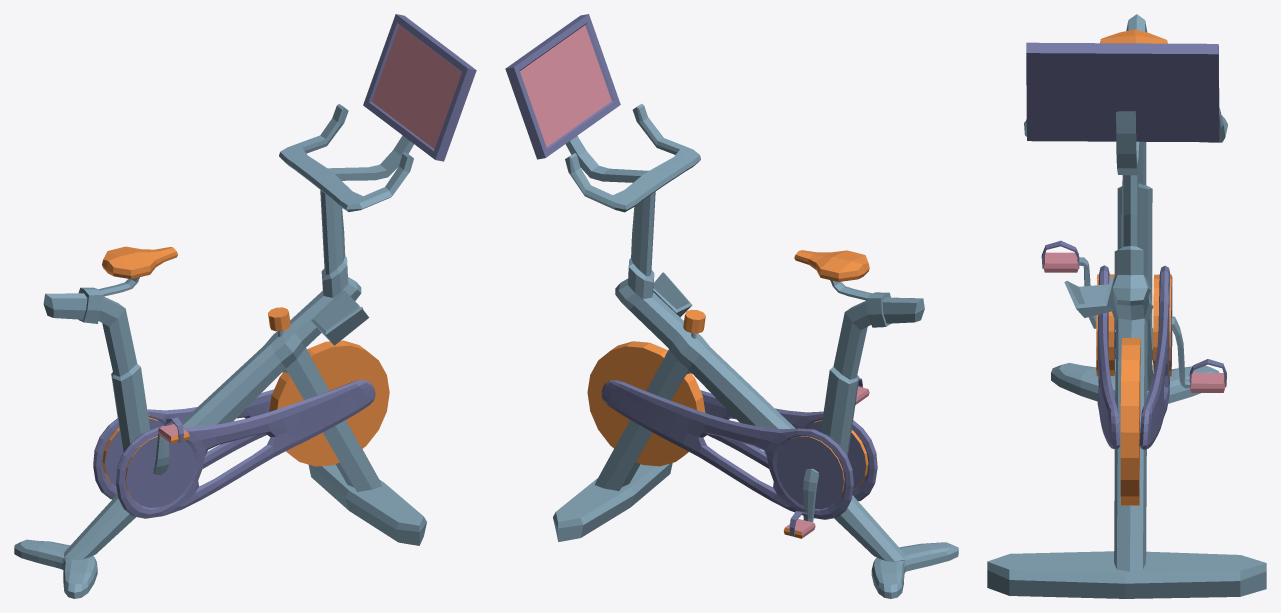
The model's file is Gym_Peloton.fbx.
3 renders of one model, left to right at view 1: azimuth 30°, elevation 25°; view 2: azimuth 150°, elevation 25°; view 3: azimuth 270°, elevation 25°, orthographic. The views are drawn at different scales.
Parts seen in each view (by area): view 1: Gym_Peloton; view 2: Gym_Peloton; view 3: Gym_Peloton.
Part boxes in pixels (x1,y1,x2,y2): Gym_Peloton: [14, 14, 476, 598]; Gym_Peloton: [505, 14, 958, 598]; Gym_Peloton: [987, 14, 1266, 598].
Bounding box in the file's own units: 223 × 242 × 105.
